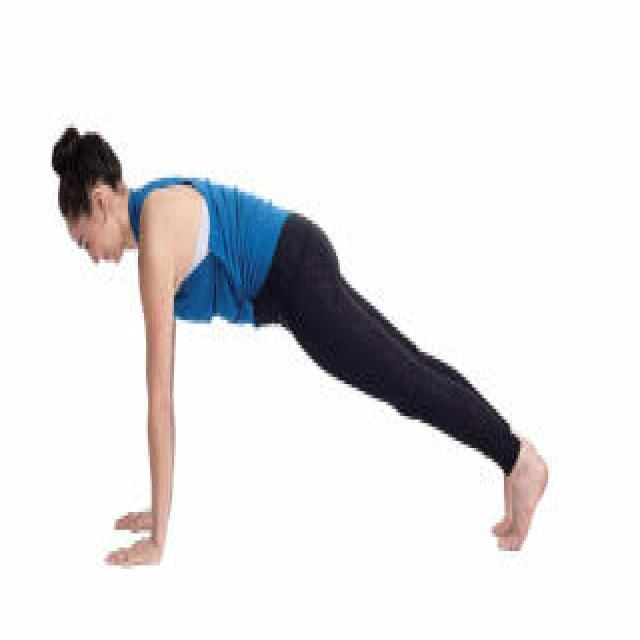yoga-pose plank: (46, 105, 551, 570)
